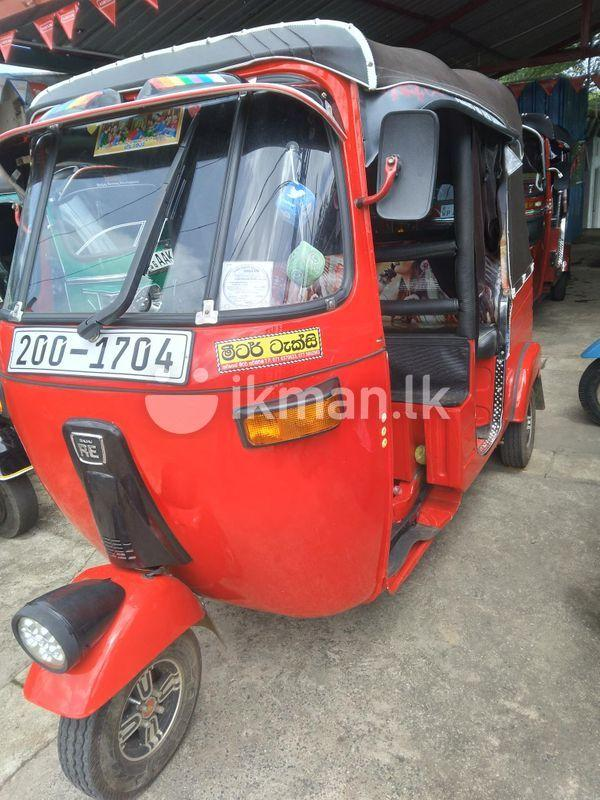threewheel: (1, 18, 544, 800)
